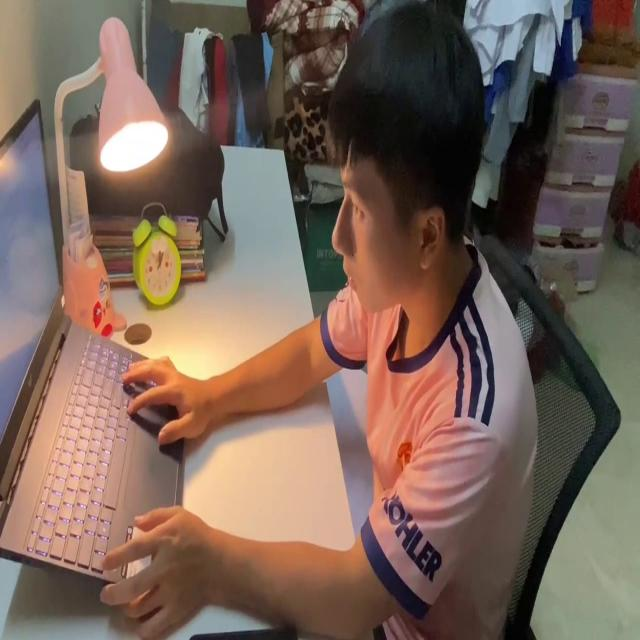book: (329, 360, 374, 534)
laptop: (0, 92, 191, 602)
student: (89, 6, 539, 640)
